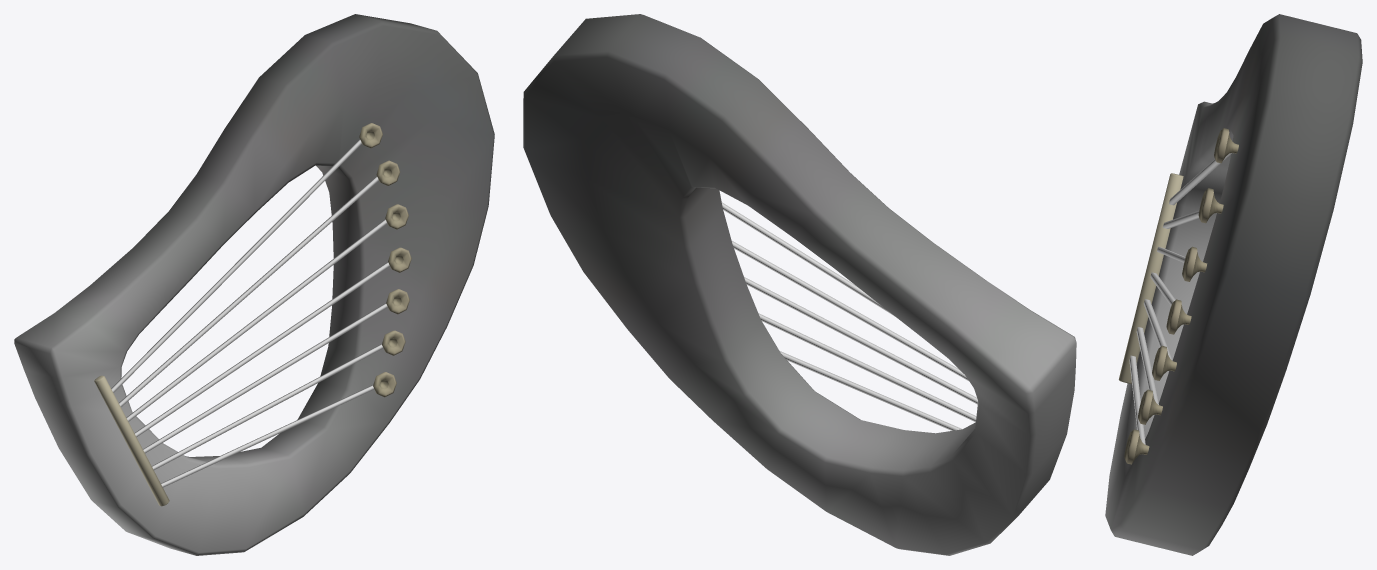
File: CharSkyKid_Prop_Harp.glb
3 renders of one model, left to right at view 1: azimuth 30°, elevation 25°; view 2: azimuth 150°, elevation 25°; view 3: azimuth 270°, elevation 25°, orthographic. The views are drawn at different scales.
Visible parts, largest first — view 1: CharSkyKid_Prop_Harp; view 2: CharSkyKid_Prop_Harp; view 3: CharSkyKid_Prop_Harp.
Boxes of the visible parts, x1,y1,x2,y2 form: CharSkyKid_Prop_Harp: [14, 14, 494, 555]; CharSkyKid_Prop_Harp: [523, 14, 1076, 555]; CharSkyKid_Prop_Harp: [1105, 14, 1362, 555].
Size of the model in its own units: 4.45 by 4.22 by 1.54.
1 material, 1 textured.
